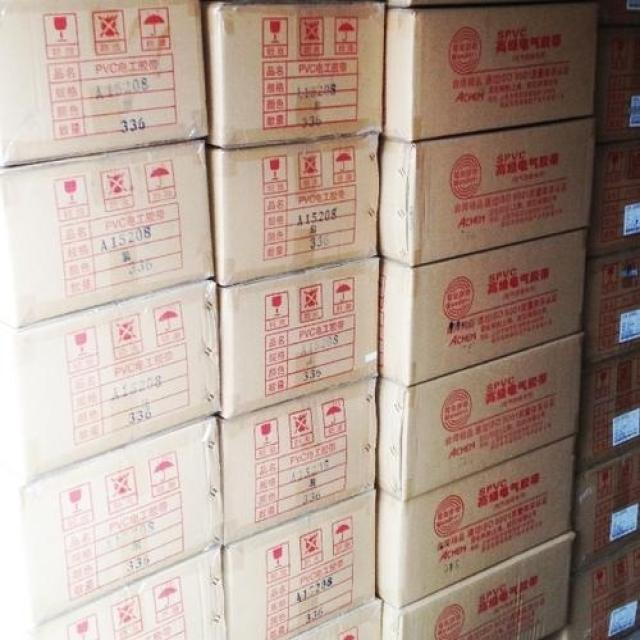box: (0, 415, 223, 637), (0, 276, 223, 488), (0, 137, 216, 335), (0, 0, 210, 168), (379, 329, 582, 501), (375, 226, 591, 387), (376, 437, 579, 607), (380, 114, 596, 268), (379, 0, 596, 144), (220, 376, 380, 547), (210, 132, 381, 288), (204, 0, 385, 143), (218, 257, 379, 415), (221, 488, 379, 639), (376, 531, 572, 640), (0, 547, 228, 639), (538, 541, 640, 639), (568, 448, 640, 576), (572, 351, 640, 475), (580, 249, 640, 365), (588, 139, 640, 260), (595, 22, 640, 149), (292, 597, 383, 640), (385, 0, 595, 9), (594, 0, 640, 25)
